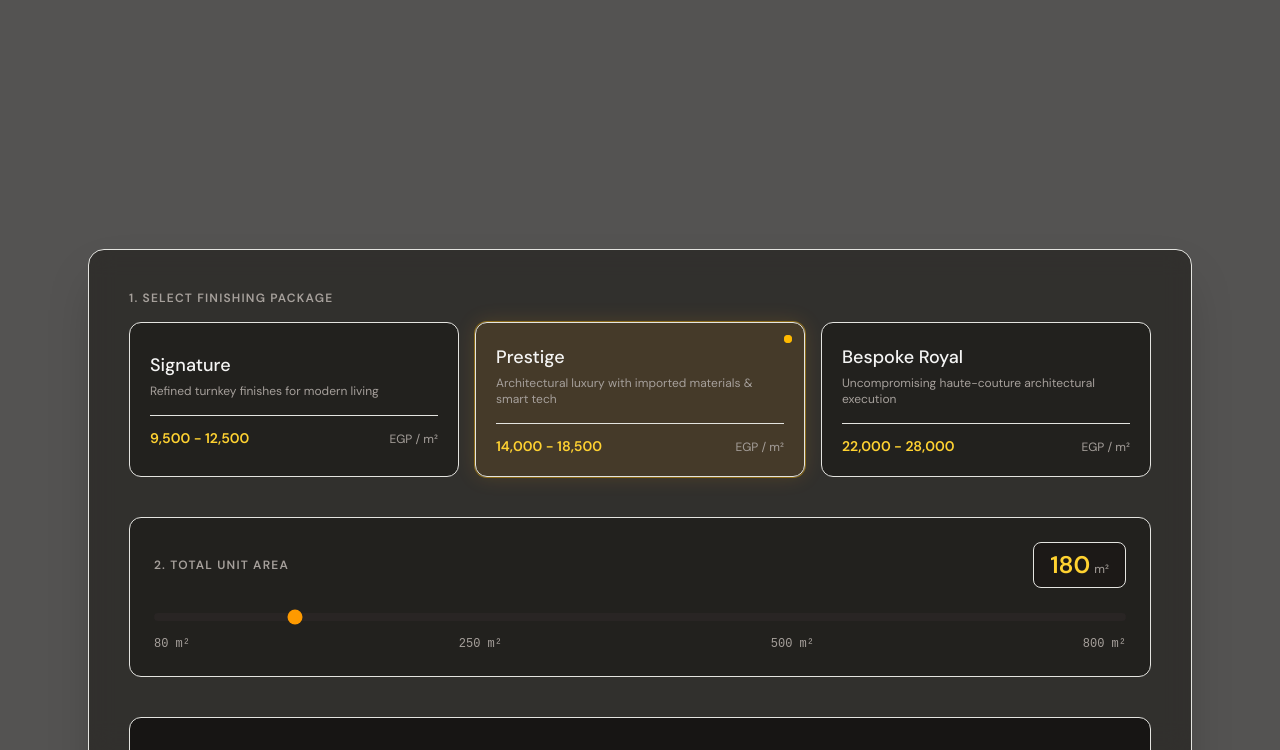
Scenario: CostEstimator Component › recalculates when switching to Signature package
The width and height of the screenshot is (1280, 750).
Click the button "Signature". click: (294, 400)
box: [129,322,459,477]
(page scrolled)
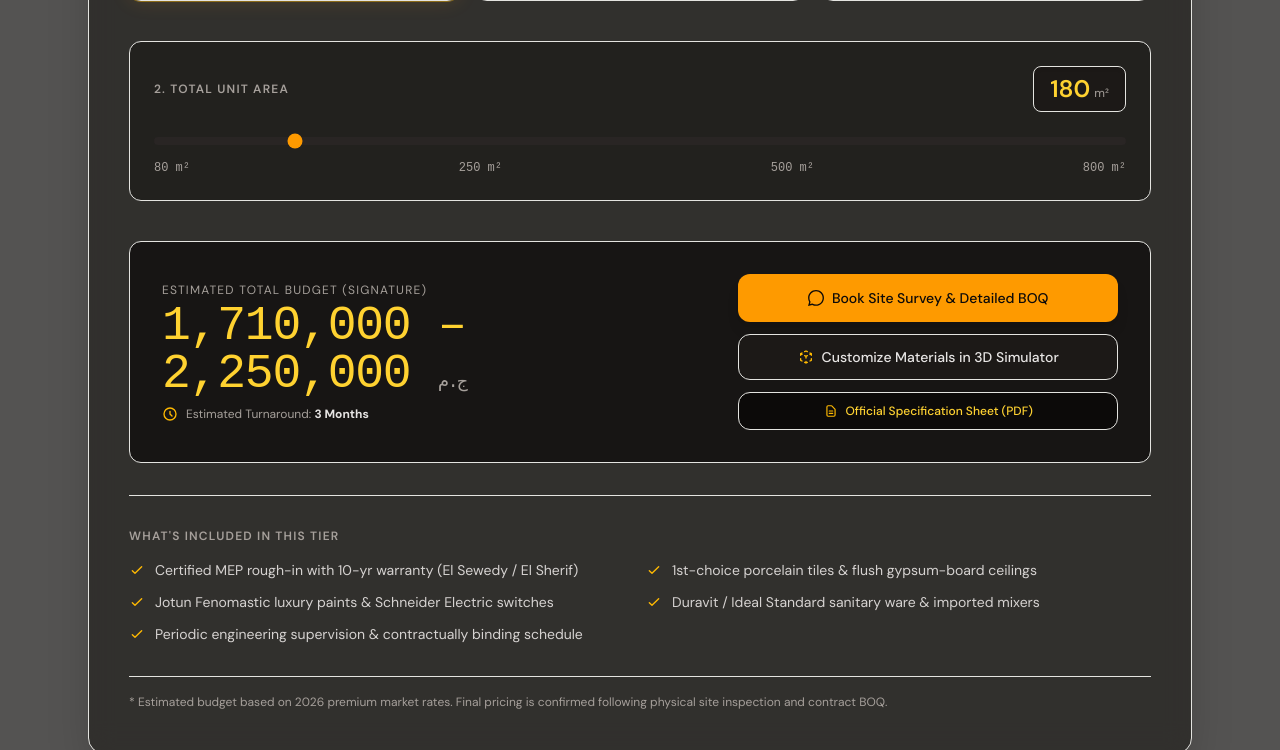
expect the text "1,710,000 – 2,250,000 ج.م" is shown: met, box [162,299,467,401]
